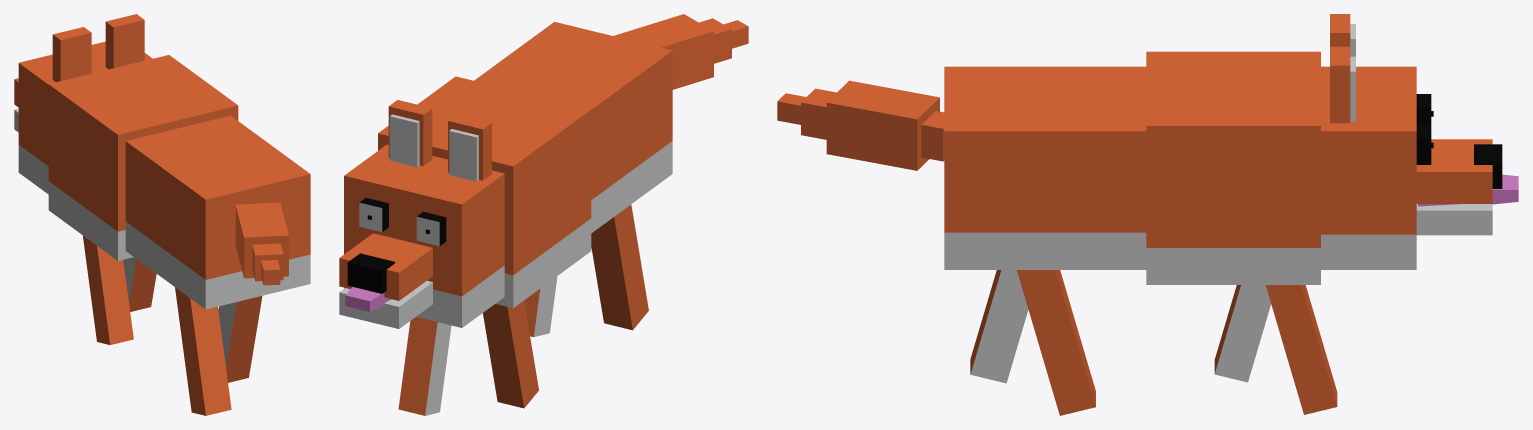
File: fox.fbx
The picture shows the model from 3 angles, left to right: view 1: azimuth 30°, elevation 25°; view 2: azimuth 150°, elevation 25°; view 3: azimuth 270°, elevation 25°; orthographic projection. The views are drawn at different scales.
Visible parts, largest first — view 1: Fox; view 2: Fox; view 3: Fox.
Boxes of the visible parts, x1,y1,x2,y2 form: Fox: (14,14,310,415); Fox: (339,14,748,415); Fox: (777,14,1518,415).
Bounding box in the file's own units: 348 × 769 × 1468.
